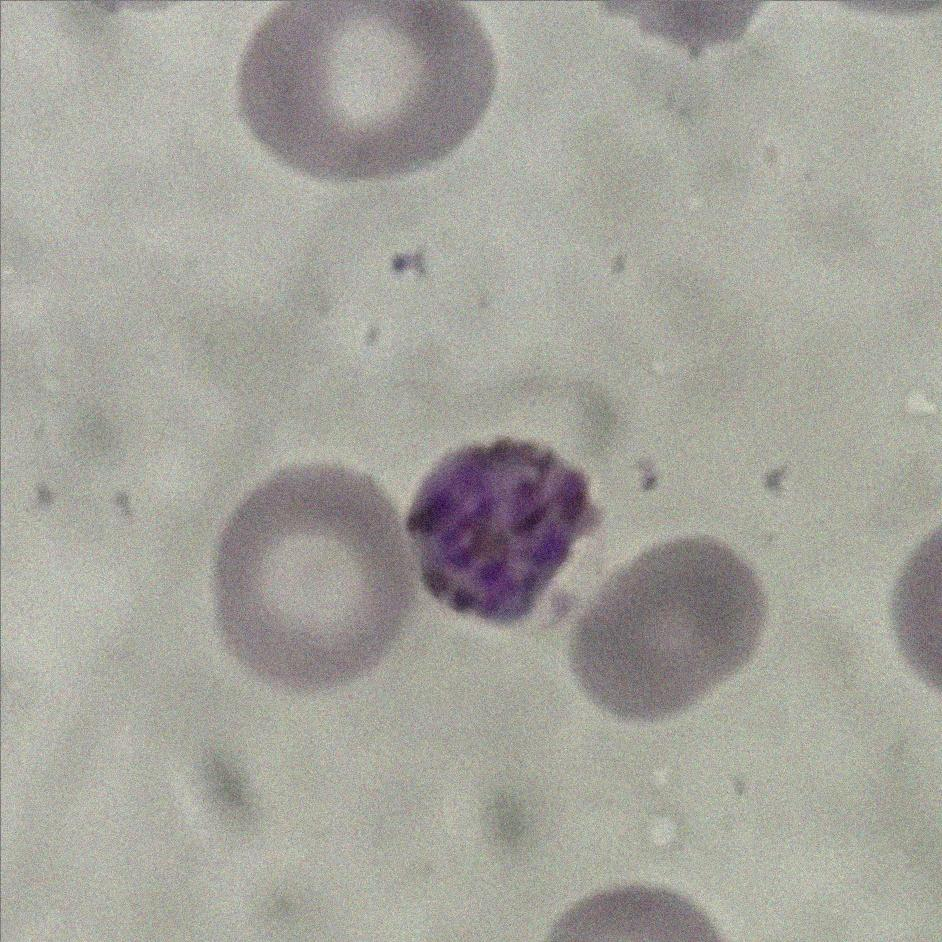Infected: (403, 433, 605, 637)
Uninfected: (212, 456, 417, 699), (233, 0, 498, 182), (570, 528, 768, 724)
